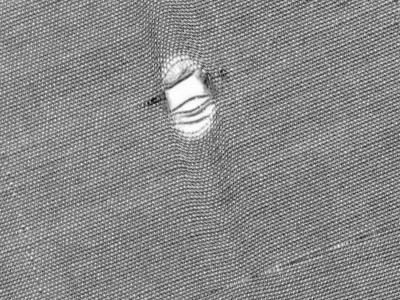hole: (156, 51, 221, 144)
